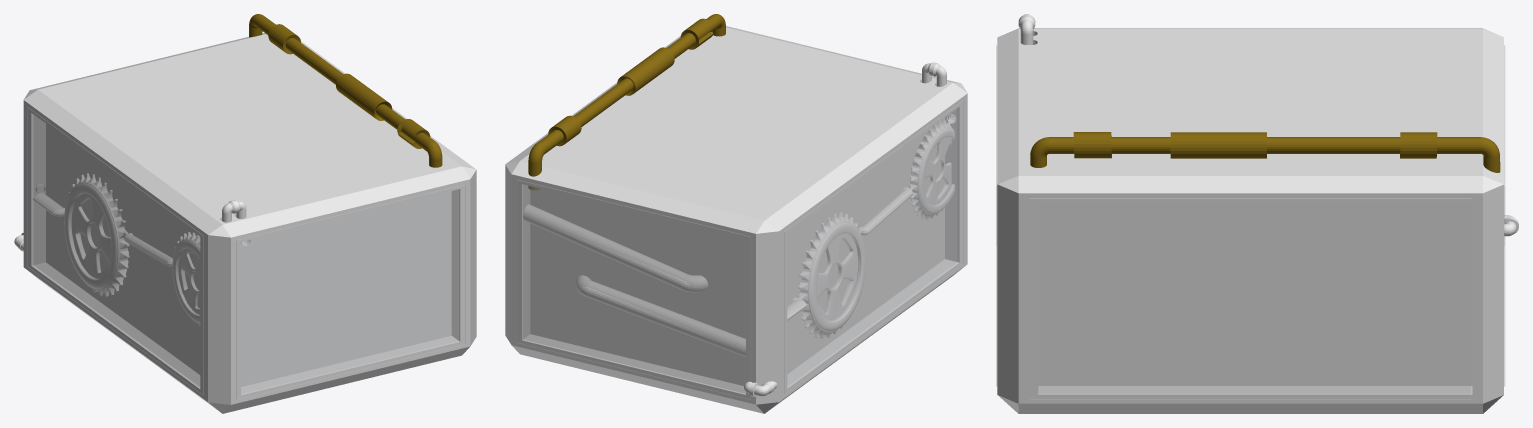
Rendered from Steampunk_Puzzle_Box 1.fbx.
3 renders of one model, left to right at view 1: azimuth 30°, elevation 25°; view 2: azimuth 150°, elevation 25°; view 3: azimuth 270°, elevation 25°, orthographic. The views are drawn at different scales.
Parts seen in each view (by area): view 1: Base_Body_Box, Glass_Panel_3, Glass_Panel_2, Level2_Cogwheel_Lift1, Network_1, Level2_Cogwheel_Lift2, Level2_Pipe:Plattform2, Network_3; view 2: Base_Body_Box, Glass_Panel_1, Glass_Panel_2, Level2_Cogwheel_Lift1, Network_1, Level1_Platform_1, Level1_Platform_2, Level2_Cogwheel_Lift2, Level2_Pipe:Plattform2, Network_3; view 3: Base_Body_Box, Glass_Panel_4, Network_1, Glass_Panel_3, Glass_Panel_1.
Part boxes in pixels (x1,y1,x2,y2): Base_Body_Box: (23,33,476,413); Glass_Panel_3: (236,185,465,399); Glass_Panel_2: (27,107,203,394); Level2_Cogwheel_Lift1: (64,173,129,296); Network_1: (249,14,442,167); Level2_Cogwheel_Lift2: (172,232,200,326); Level2_Pipe:Plattform2: (124,233,172,266); Network_3: (222,200,250,245); Base_Body_Box: (505,26,967,413); Glass_Panel_1: (516,180,750,399); Glass_Panel_2: (784,100,963,394); Level2_Cogwheel_Lift1: (798,212,865,338); Network_1: (528,14,725,190); Level1_Platform_1: (523,204,708,292); Level1_Platform_2: (576,275,745,356); Level2_Cogwheel_Lift2: (909,120,954,219); Level2_Pipe:Plattform2: (859,187,912,235); Network_3: (922,62,956,123); Base_Body_Box: (997,28,1503,413); Glass_Panel_4: (1030,198,1471,399); Network_1: (1030,132,1500,172); Glass_Panel_3: (996,45,997,386); Glass_Panel_1: (1504,45,1505,386).
Size of the model in its own units: 1867 by 1412 by 2485.
